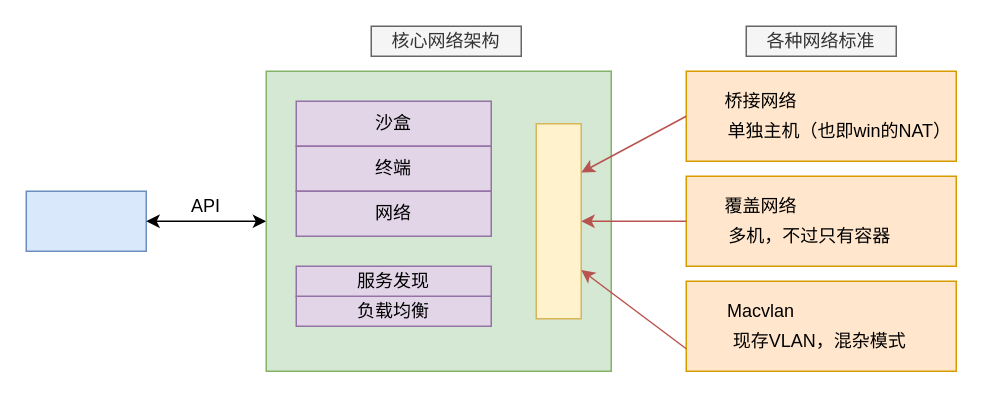
This 983x398 diagram has some shape labels left out. The box of each missing label's shape, as (x1, y1, x2, y2) in pixels:
Docker引擎: (25, 190, 146, 251)
可 插 拔 接 口: (535, 122, 581, 319)
